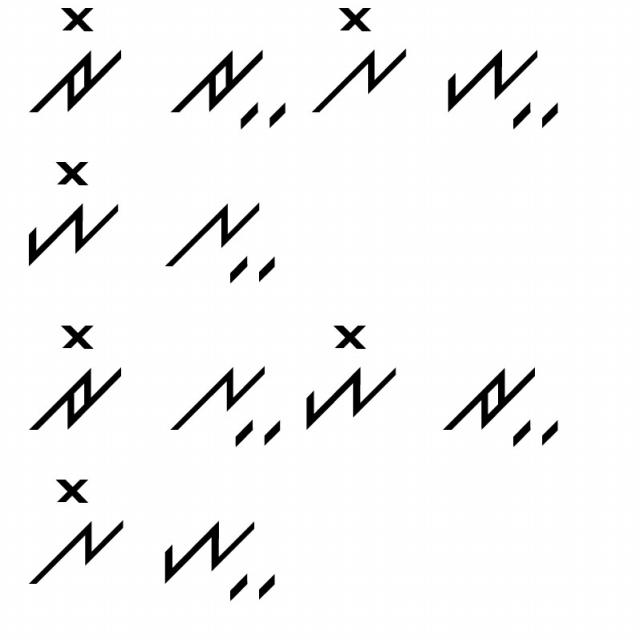lah: (167, 346, 289, 450), (161, 190, 286, 286)
lo: (21, 467, 129, 592), (314, 4, 409, 120)
rah: (159, 37, 293, 139), (435, 355, 563, 459)
ro: (17, 320, 131, 436), (25, 5, 127, 117)
yah: (155, 499, 290, 613), (432, 36, 568, 134)
yo: (15, 152, 126, 272), (296, 318, 399, 430)
